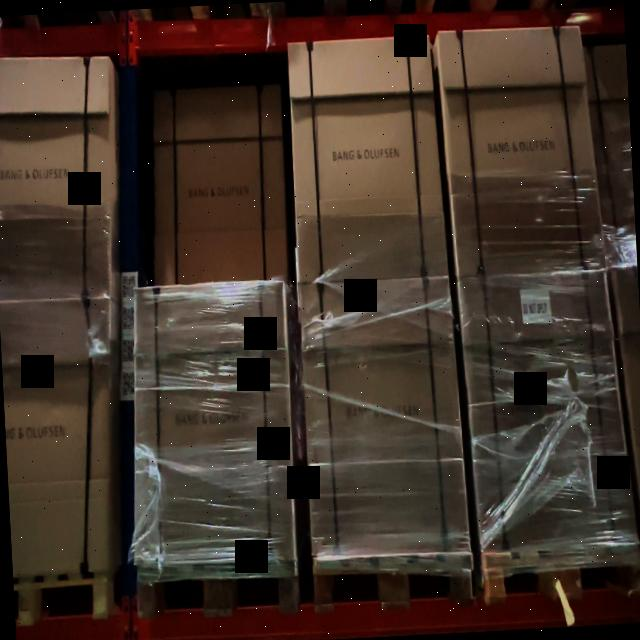box: (128, 280, 300, 566), (463, 273, 632, 544), (302, 279, 468, 552), (442, 24, 602, 272), (290, 37, 446, 280), (150, 80, 288, 282), (0, 61, 117, 293)
